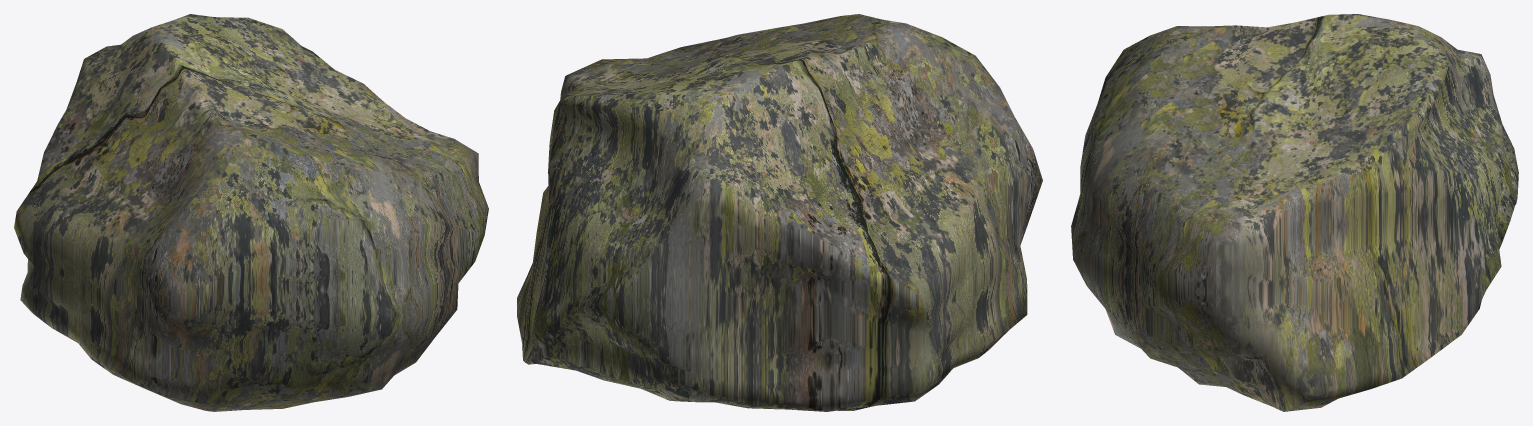
The model's file is boulder_a_lod0.gltf.
3 renders of one model, left to right at view 1: azimuth 30°, elevation 25°; view 2: azimuth 150°, elevation 25°; view 3: azimuth 270°, elevation 25°, orthographic. The views are drawn at different scales.
Parts seen in each view (by area): view 1: boulder_a_LOD0; view 2: boulder_a_LOD0; view 3: boulder_a_LOD0.
Part boxes in pixels (bbox=[...]): boulder_a_LOD0: bbox=[14, 14, 488, 411]; boulder_a_LOD0: bbox=[517, 14, 1042, 411]; boulder_a_LOD0: bbox=[1071, 14, 1518, 411].
Bounding box in the file's own units: 1.75 × 1.41 × 1.77.
Materials: 1 (1 with a texture image).
